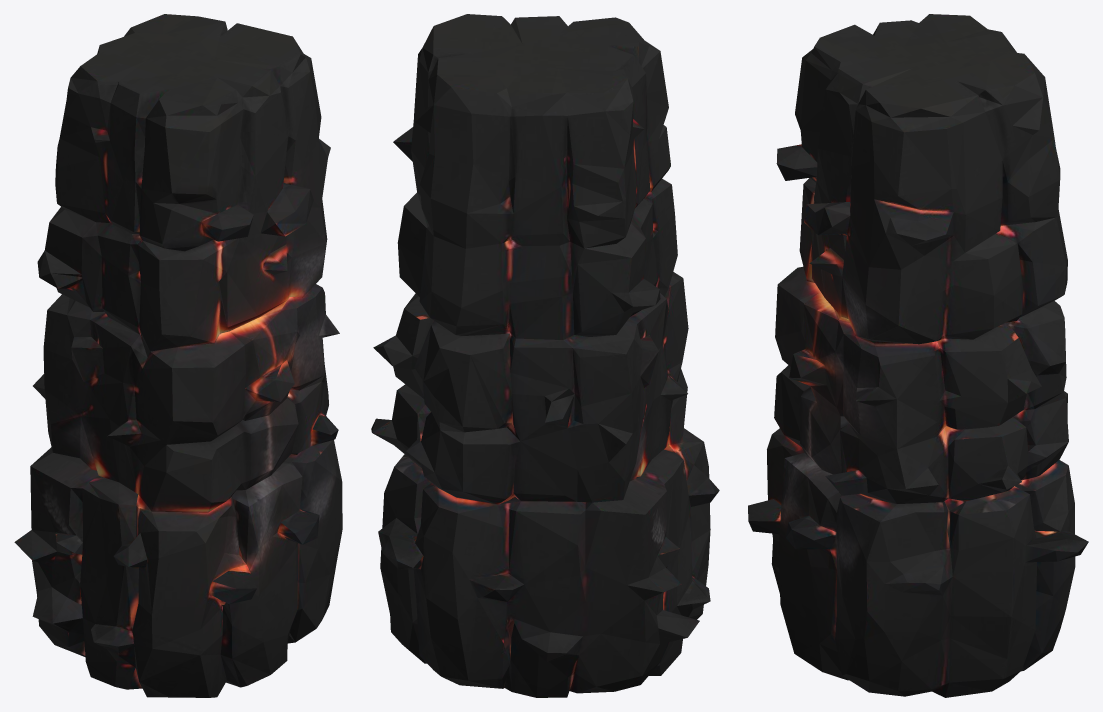
Rendered from caldera_wall.glb.
3 renders of one model, left to right at view 1: azimuth 30°, elevation 25°; view 2: azimuth 150°, elevation 25°; view 3: azimuth 270°, elevation 25°, orthographic. The views are drawn at different scales.
Visible parts, largest first — view 1: tmp8kaae1t9.ply; view 2: tmp8kaae1t9.ply; view 3: tmp8kaae1t9.ply.
Boxes of the visible parts, <box> form: tmp8kaae1t9.ply: <box>14,14,342,697</box>; tmp8kaae1t9.ply: <box>371,14,719,697</box>; tmp8kaae1t9.ply: <box>748,14,1088,697</box>.
Size of the model in its own units: 1.01 by 1.99 by 1.02.
1 material, 1 textured.
